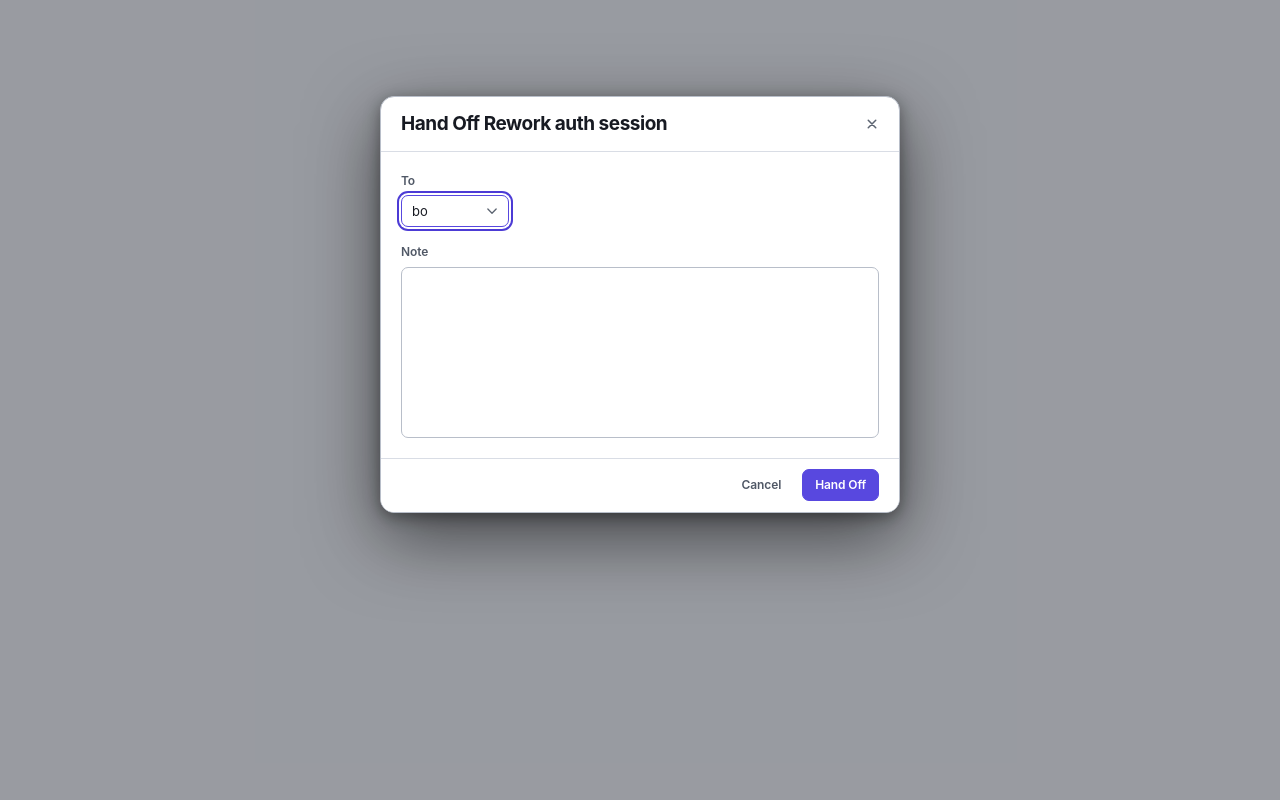
Test case: Hand Off… › says the refusal and stays open
Click the button "Hand Off".
click(841, 485)  # box [802,469,879,501]
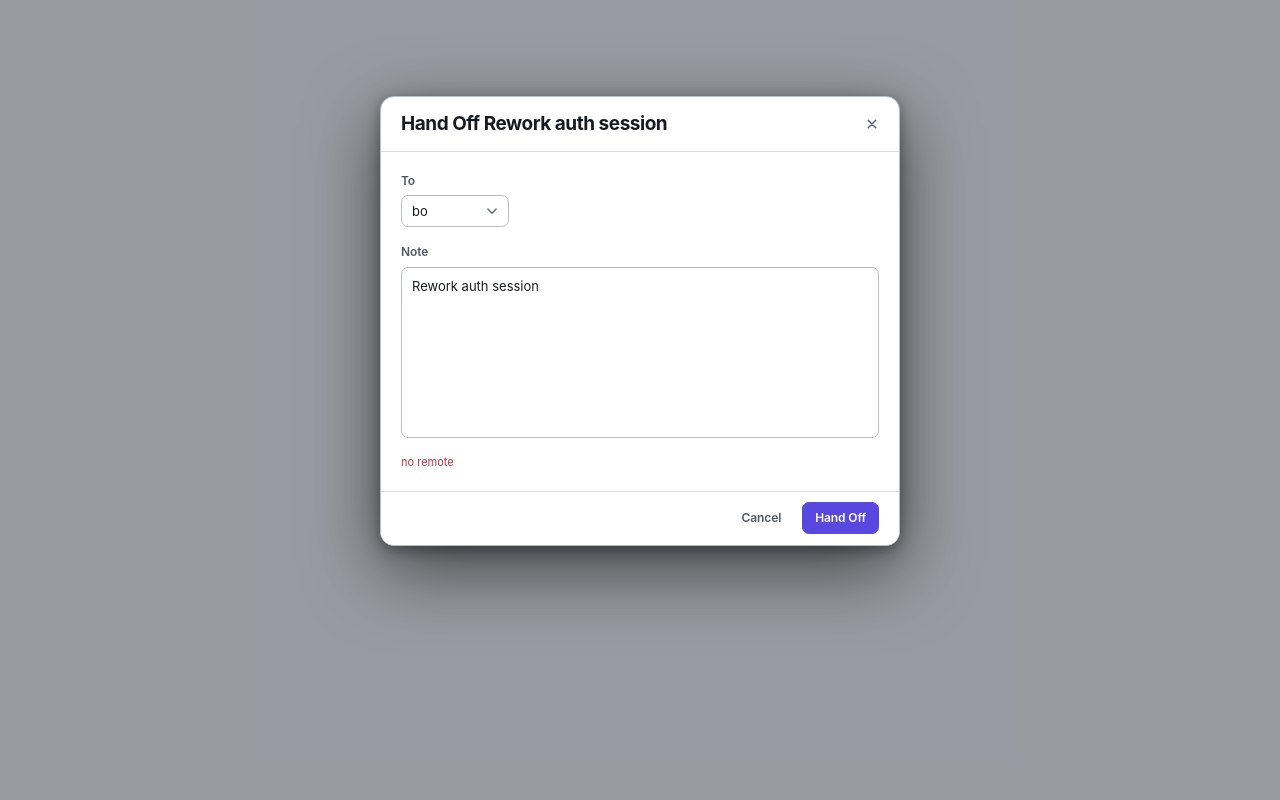
Check: the message reads "no remote", box [401,454,454,468]
